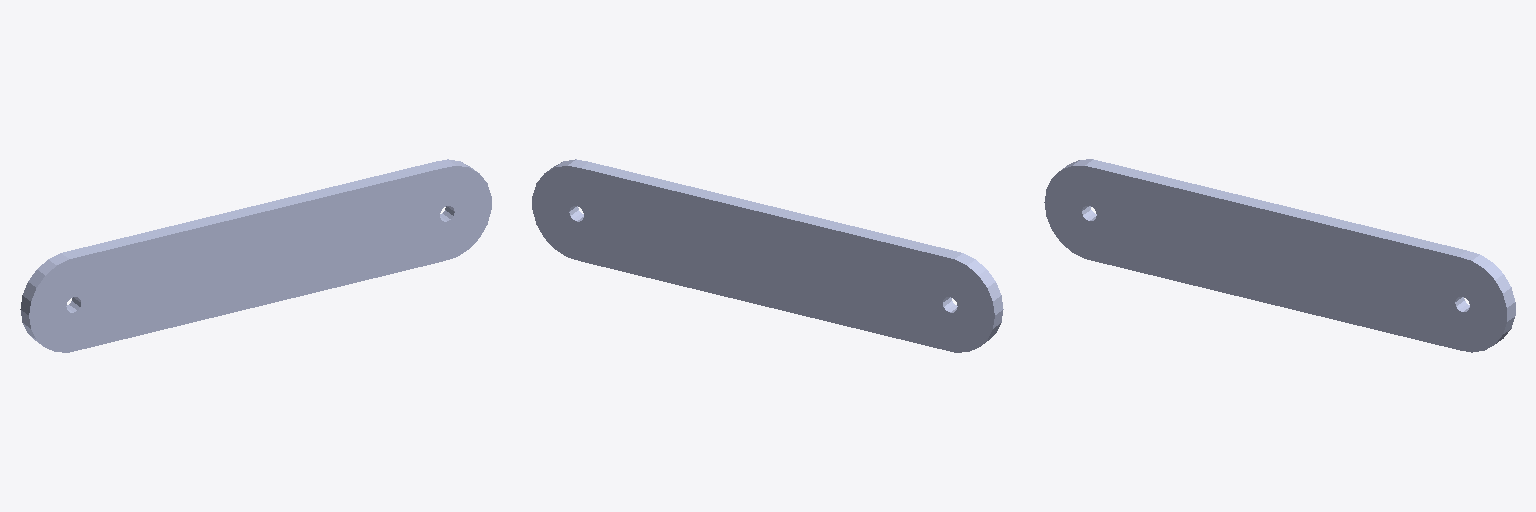
The robot description file, URDF, robot "Forearm":
<robot
  name="Forearm">
  <link
    name="Forearm">
    <inertial>
      <origin
        xyz="0.017141 -0.003175 0.022163"
        rpy="0 0 0" />
      <mass
        value="0.04507" />
      <inertia
        ixx="5.3901857608853E-06"
        ixy="-3.33251623282519E-24"
        ixz="1.64028696265159E-21"
        iyy="0.000138557848645833"
        iyz="-3.11406641018776E-22"
        izz="0.000133470551713441" />
    </inertial>
    <visual>
      <origin
        xyz="0 0 0"
        rpy="1.5707963267949 0 0" />
      <geometry>
        <mesh
          filename="package://Forearm/meshes/Forearm.STL" />
      </geometry>
      <material
        name="">
        <color
          rgba="0.79216 0.81961 0.93333 1" />
      </material>
    </visual>
    <collision>
      <origin
        xyz="0 0 0"
        rpy="1.5707963267949 0 0" />
      <geometry>
        <mesh
          filename="package://Forearm/meshes/Forearm.STL" />
      </geometry>
    </collision>
  </link>
</robot>

--- Render facts (derived) ---
The picture shows the robot from 3 angles, left to right: view 1: azimuth 30°, elevation 25°; view 2: azimuth 150°, elevation 25°; view 3: azimuth 330°, elevation 25°; orthographic projection.
Model Forearm with 1 links and 0 joints (none), rooted at Forearm, posed every joint at zero.
Links seen in each view (by area): view 1: Forearm; view 2: Forearm; view 3: Forearm.
Link boxes in pixels (<box>): Forearm: <box>20,159,491,352</box>; Forearm: <box>532,159,1003,352</box>; Forearm: <box>1044,159,1515,352</box>.
Bounding box of the posed robot: 0.1966 × 0.0063 × 0.0379 m (x, y, z).
1 mesh visuals loaded from 1 distinct referenced files (1 binary STL).
